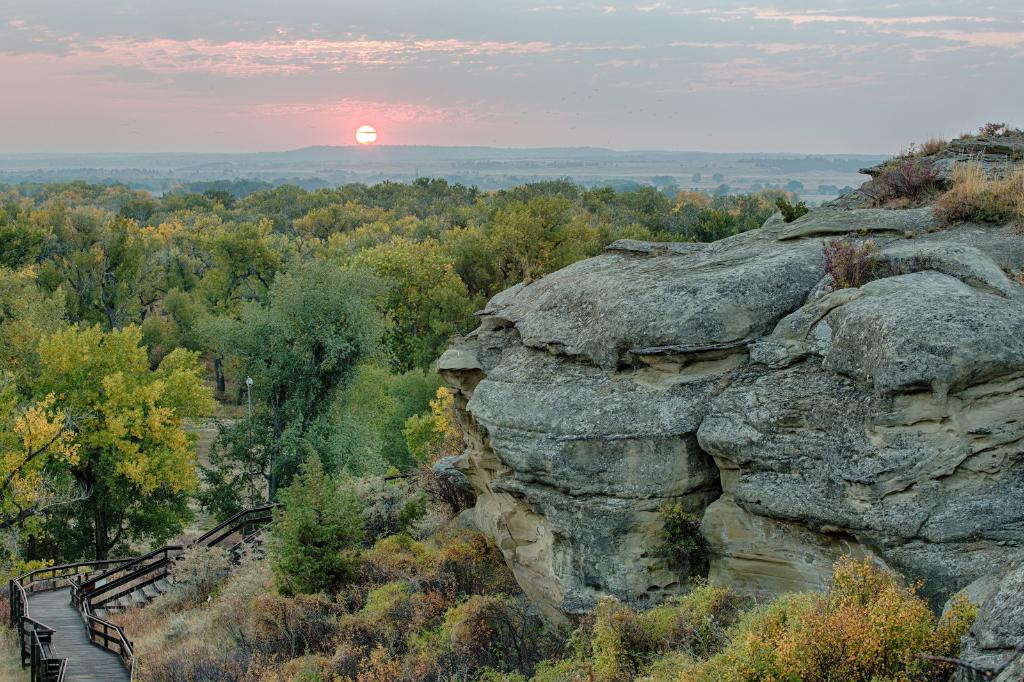Tree: (0, 177, 819, 571), (173, 553, 965, 681)
